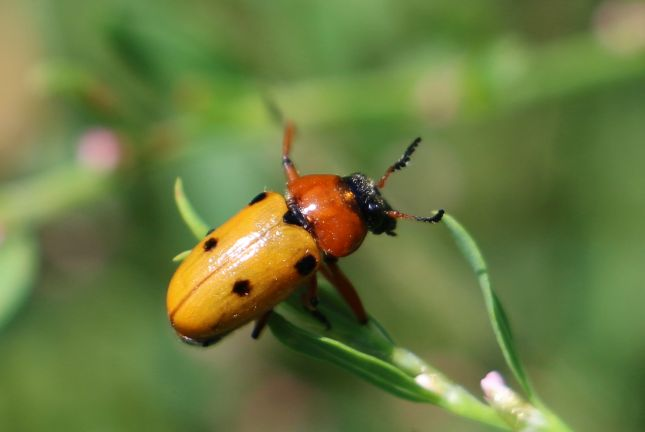Tituboea_macropus: (149, 116, 446, 350)
